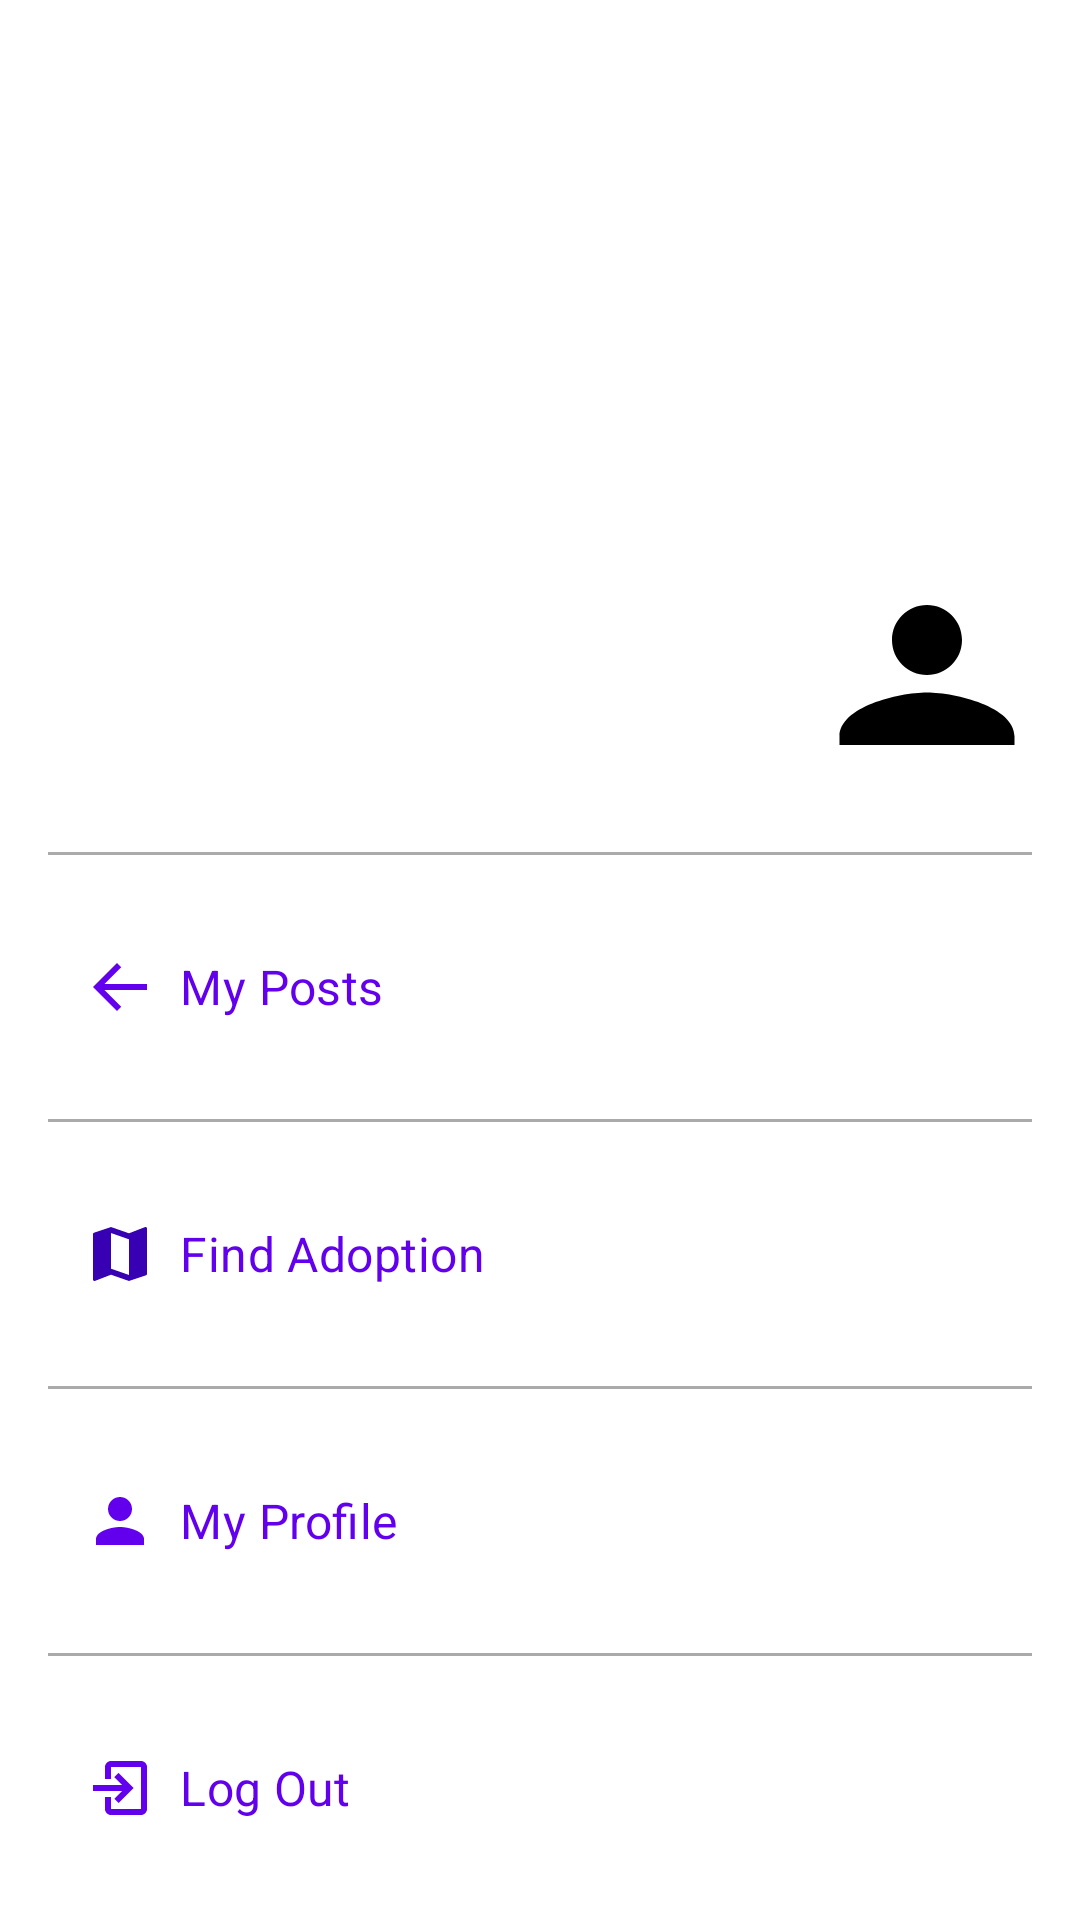

Screen size 1080x1920. Icon name, then its center in pixels as (x,y):
profile: (927,675)
